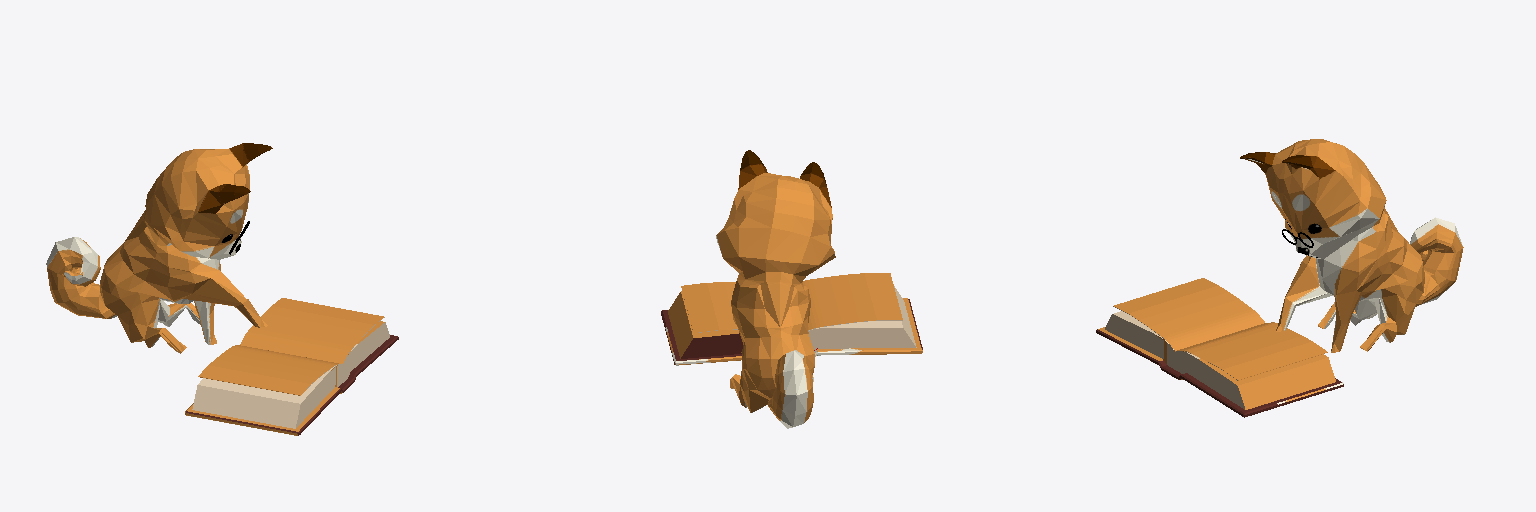
3 renders of one model, left to right at view 1: azimuth 30°, elevation 25°; view 2: azimuth 150°, elevation 25°; view 3: azimuth 270°, elevation 25°, orthographic.
Parts seen in each view (by area): view 1: StidyGlasses_Computer_Sitting:Sitting:newRigging:BodzL1, polySurface1; view 2: StidyGlasses_Computer_Sitting:Sitting:newRigging:BodzL1, polySurface1; view 3: StidyGlasses_Computer_Sitting:Sitting:newRigging:BodzL1, polySurface1.
Part boxes in pixels (x1,y1,x2,y2): StidyGlasses_Computer_Sitting:Sitting:newRigging:BodzL1: (46,143,272,353); polySurface1: (185,298,398,435); StidyGlasses_Computer_Sitting:Sitting:newRigging:BodzL1: (716,150,835,428); polySurface1: (661,273,922,365); StidyGlasses_Computer_Sitting:Sitting:newRigging:BodzL1: (1240,139,1463,352); polySurface1: (1096,278,1343,417).
Bounding box in the file's own units: 8.88 × 7.06 × 11.35.
Materials: 4 (1 with a texture image).